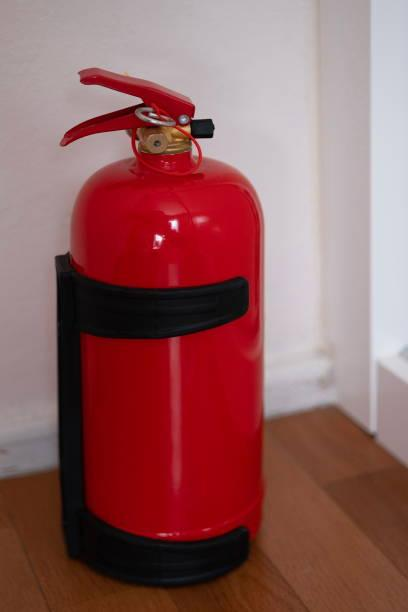floor-kept: (44, 49, 303, 597)
